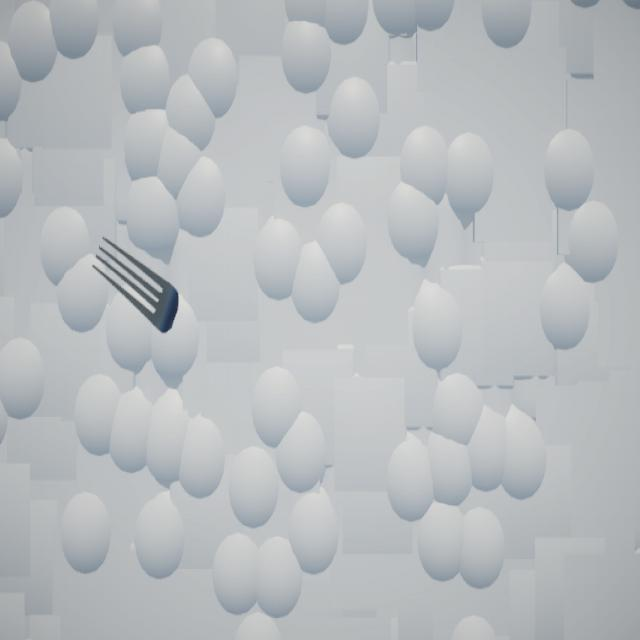top_folk: (93, 238, 180, 335)
